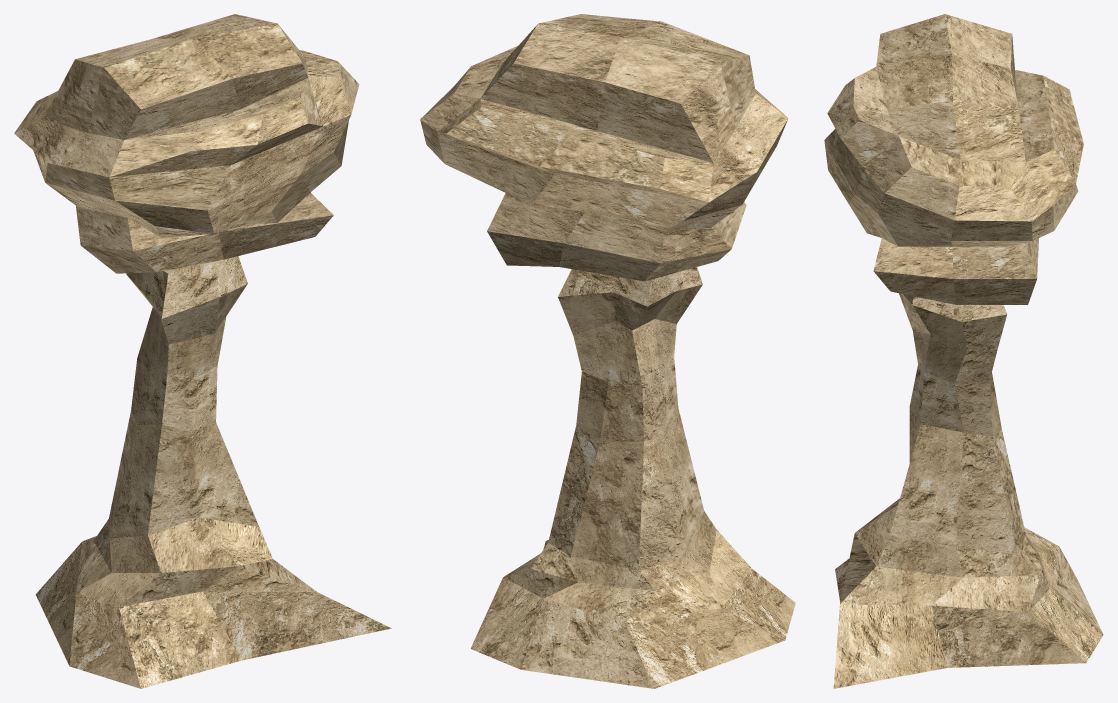
File: rock-set-desert-03.dae
The picture shows the model from 3 angles, left to right: view 1: azimuth 30°, elevation 25°; view 2: azimuth 150°, elevation 25°; view 3: azimuth 270°, elevation 25°; orthographic projection. The views are drawn at different scales.
Visible parts, largest first — view 1: Cube; view 2: Cube; view 3: Cube.
Boxes of the visible parts, x1,y1,x2,y2 form: Cube: (14, 14, 391, 688); Cube: (420, 14, 795, 688); Cube: (824, 14, 1103, 688).
Bounding box in the file's own units: 1.04 × 0.8295 × 1.86.
